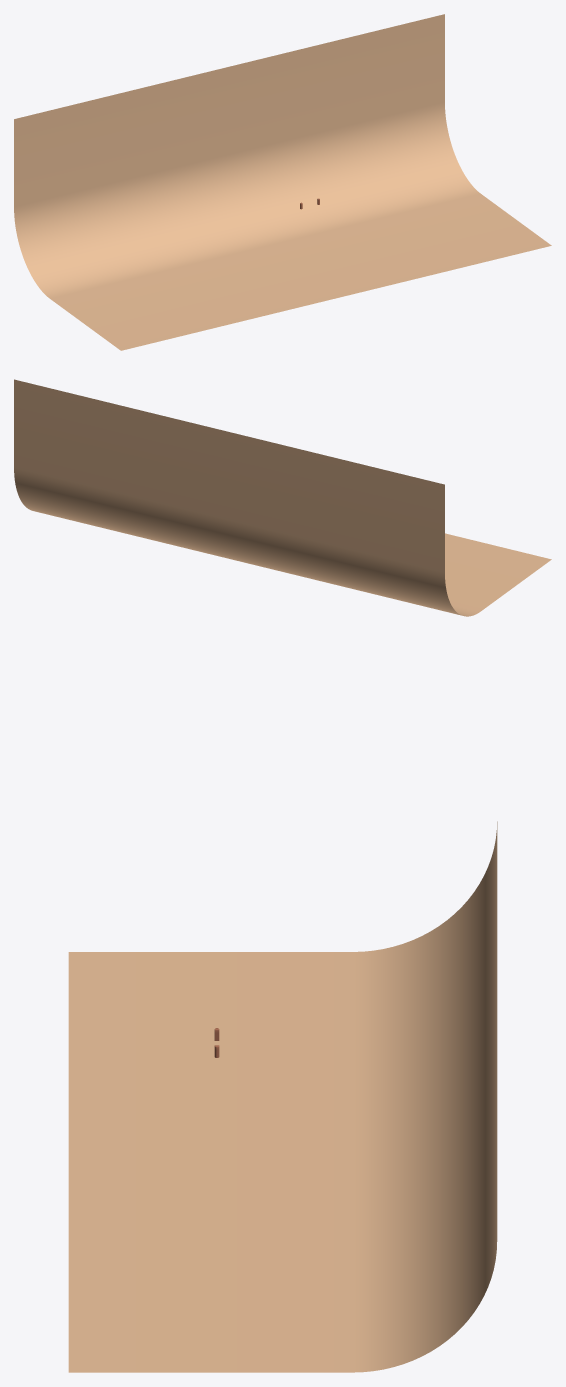
Rendered from Chopped Ladder 4.fbx.
The picture shows the model from 3 angles, top to bottom: view 1: azimuth 30°, elevation 25°; view 2: azimuth 150°, elevation 25°; view 3: azimuth 270°, elevation 25°; orthographic projection. The views are drawn at different scales.
Visible parts, largest first — view 1: Plane; view 2: Plane; view 3: Plane.
Part boxes in pixels (x1,y1,x2,y2): Plane: (14,14,551,350); Plane: (14,379,551,616); Plane: (68,821,497,1372).
Size of the model in its own units: 2153 by 732 by 927.
